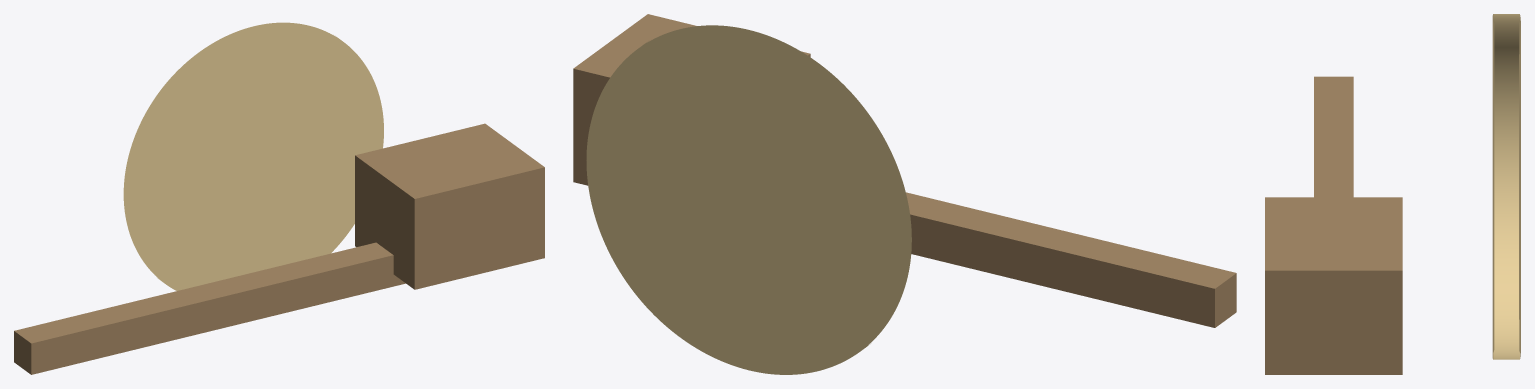
The model's file is mithaq-placeholder-upper.glb.
The picture shows the model from 3 angles, left to right: view 1: azimuth 30°, elevation 25°; view 2: azimuth 150°, elevation 25°; view 3: azimuth 270°, elevation 25°; orthographic projection. The views are drawn at different scales.
Parts seen in each view (by area): view 1: mithaq_placeholder_upper; view 2: mithaq_placeholder_upper; view 3: mithaq_placeholder_upper.
Part boxes in pixels (x1,y1,x2,y2): mithaq_placeholder_upper: [14, 22, 544, 374]; mithaq_placeholder_upper: [573, 14, 1236, 374]; mithaq_placeholder_upper: [1265, 14, 1520, 374].
Bounding box in the file's own units: 2.95 × 1.56 × 1.15.
